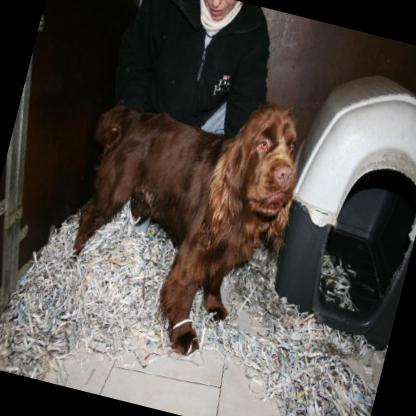Sussex_spaniel: (46, 61, 316, 370)
